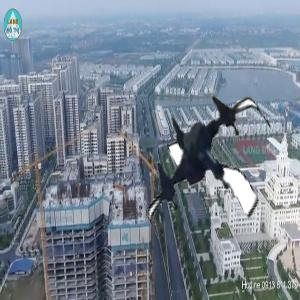drone: (130, 88, 283, 241)
